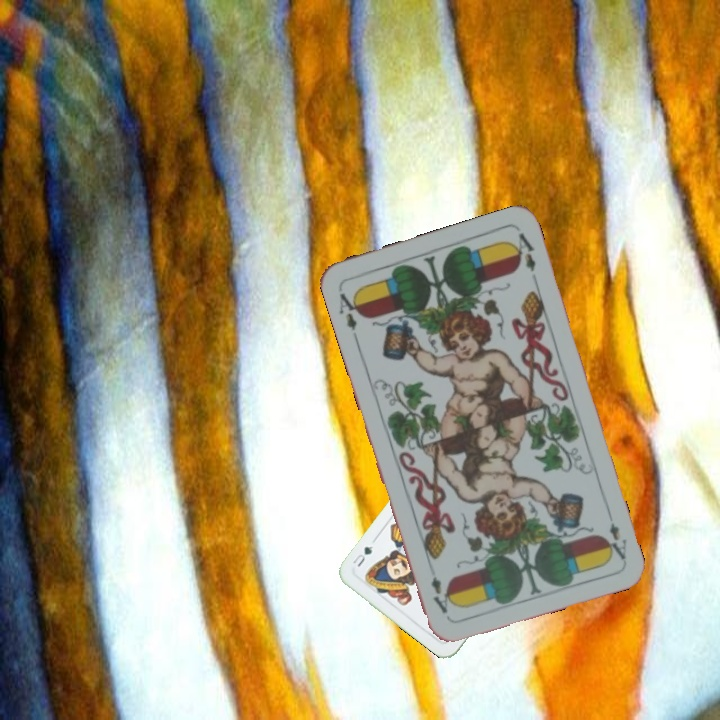EA: (600, 505, 629, 563), (335, 289, 365, 333)
